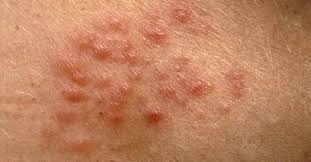herpes: (135, 55, 253, 126)
